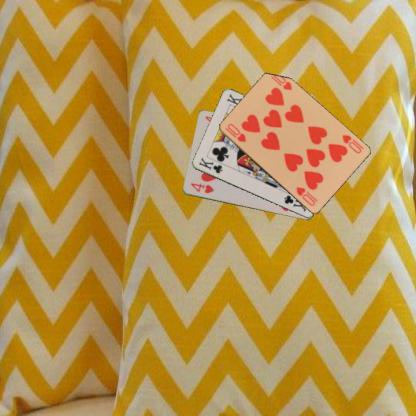10h: (222, 121, 247, 143), (339, 132, 362, 155)
4h: (188, 181, 215, 195)
Kc: (196, 155, 223, 174)
